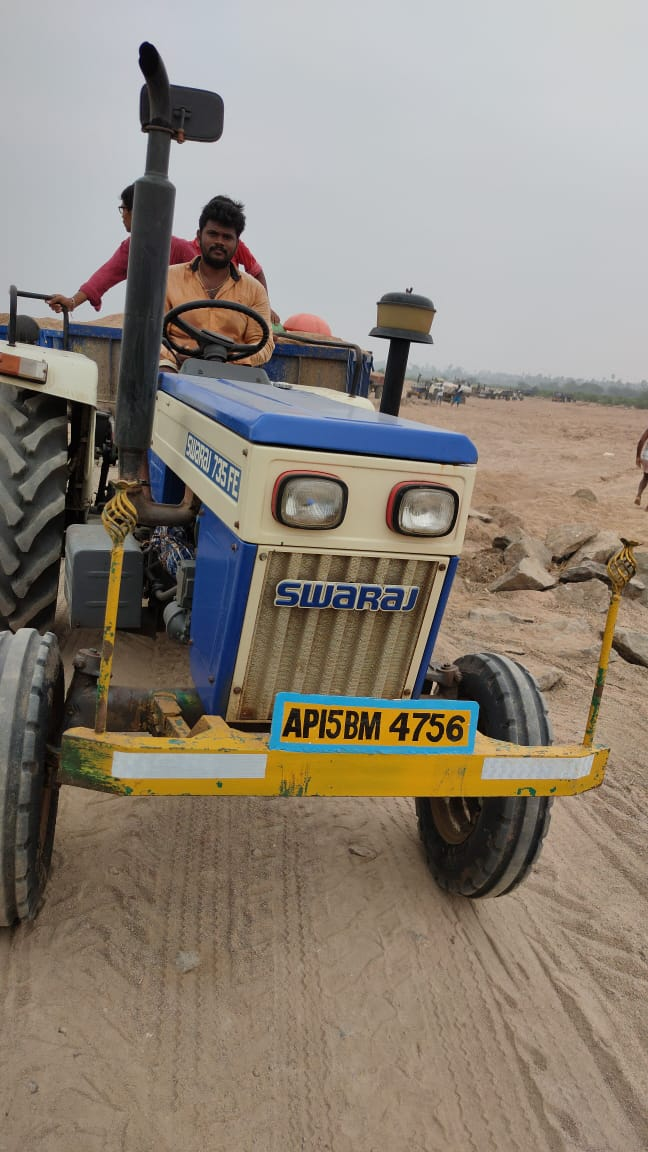license_plate: (279, 690, 481, 755)
